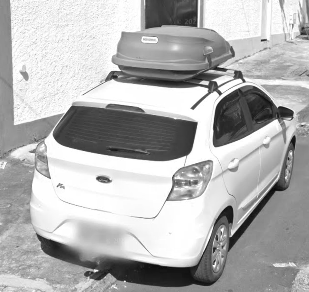car: (29, 78, 300, 285)
